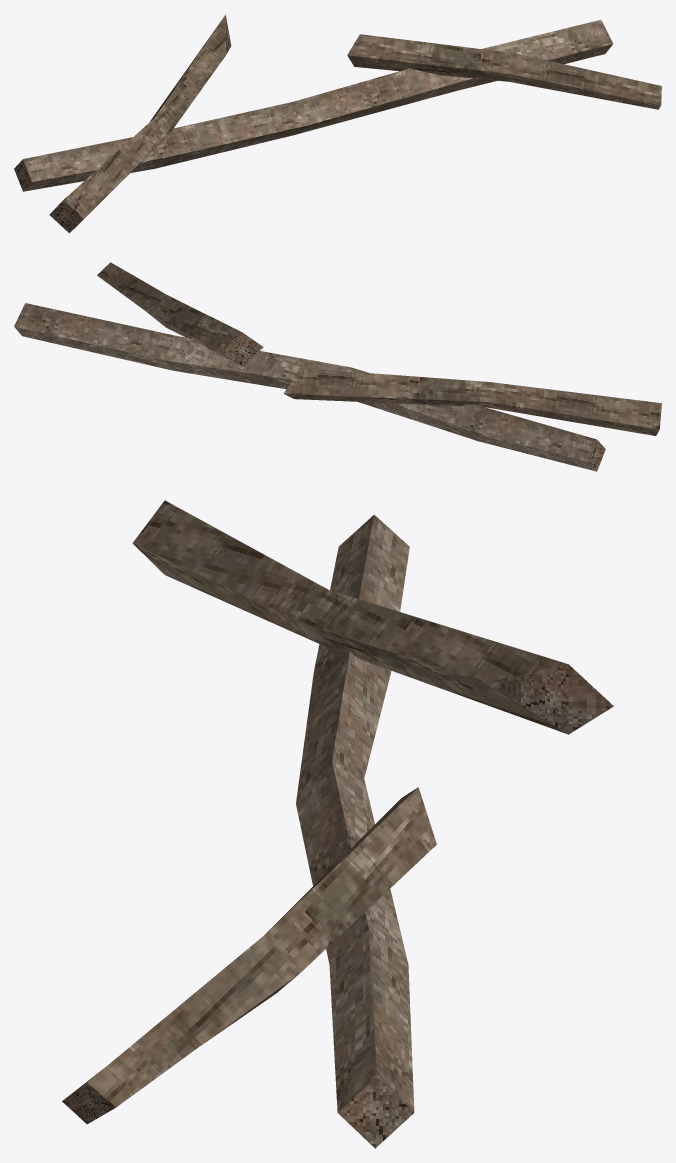
Rendered from wooden_fence_pile.glb.
The picture shows the model from 3 angles, top to bottom: view 1: azimuth 30°, elevation 25°; view 2: azimuth 150°, elevation 25°; view 3: azimuth 270°, elevation 25°; orthographic projection. The views are drawn at different scales.
Visible parts, largest first — view 1: wooden_fence_pile; view 2: wooden_fence_pile; view 3: wooden_fence_pile.
Part boxes in pixels (left/top/right/bottom): wooden_fence_pile: left=14, top=15, right=661, bottom=233; wooden_fence_pile: left=14, top=262, right=661, bottom=471; wooden_fence_pile: left=62, top=500, right=613, bottom=1148.
Size of the model in its own units: 2.58 by 0.3454 by 1.04.
Materials: 1 (1 with a texture image).
